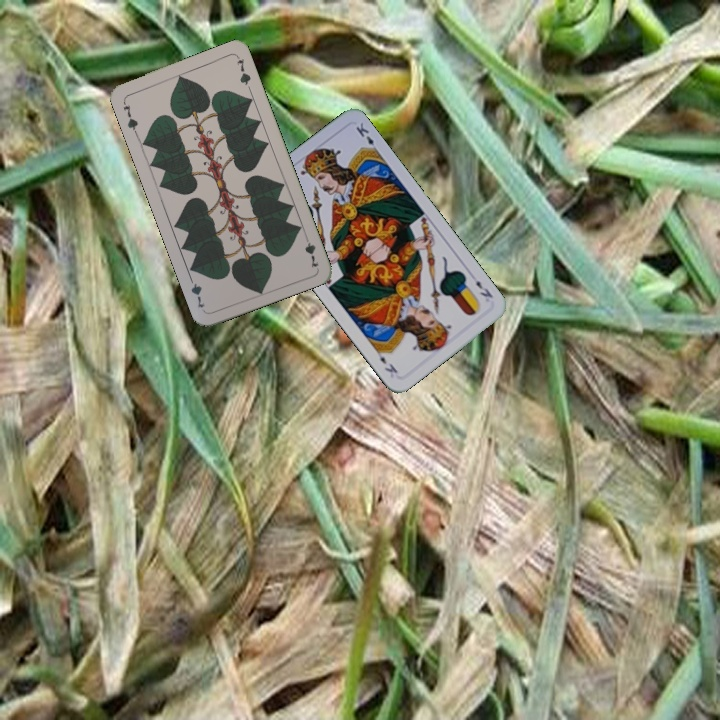EK: (472, 276, 496, 301)
G7: (300, 230, 321, 270), (119, 97, 140, 136)
